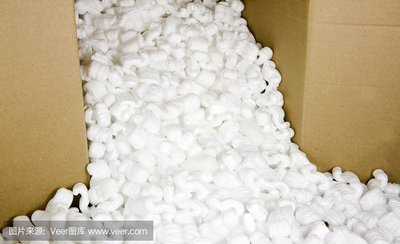5/可回收垃圾/泡沫: (1, 1, 400, 244)
